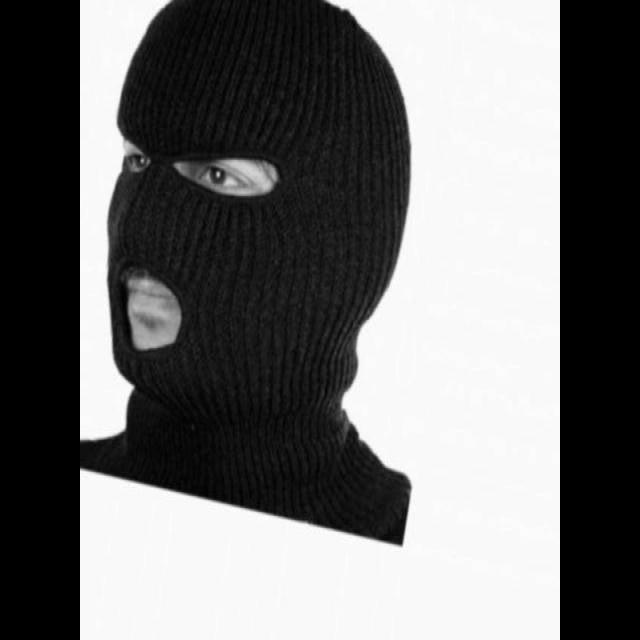6_pasamontana: (80, 1, 440, 530)
